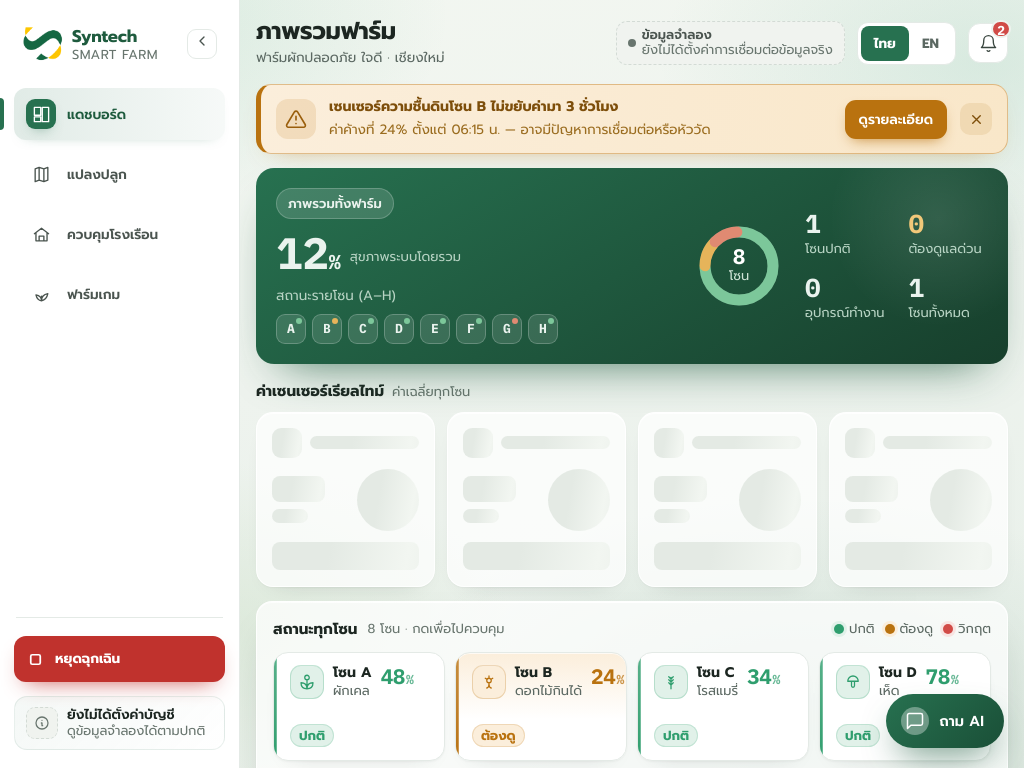
Scenario: DashboardPage › แจ้งเตือนที่ยังเป็นข้อมูลจำลอง ต้องติดป้ายบอกให้เห็นในแผง
Click the button named "การแจ้งเตือน (2)" at (988, 43), box [968,23,1008,63]
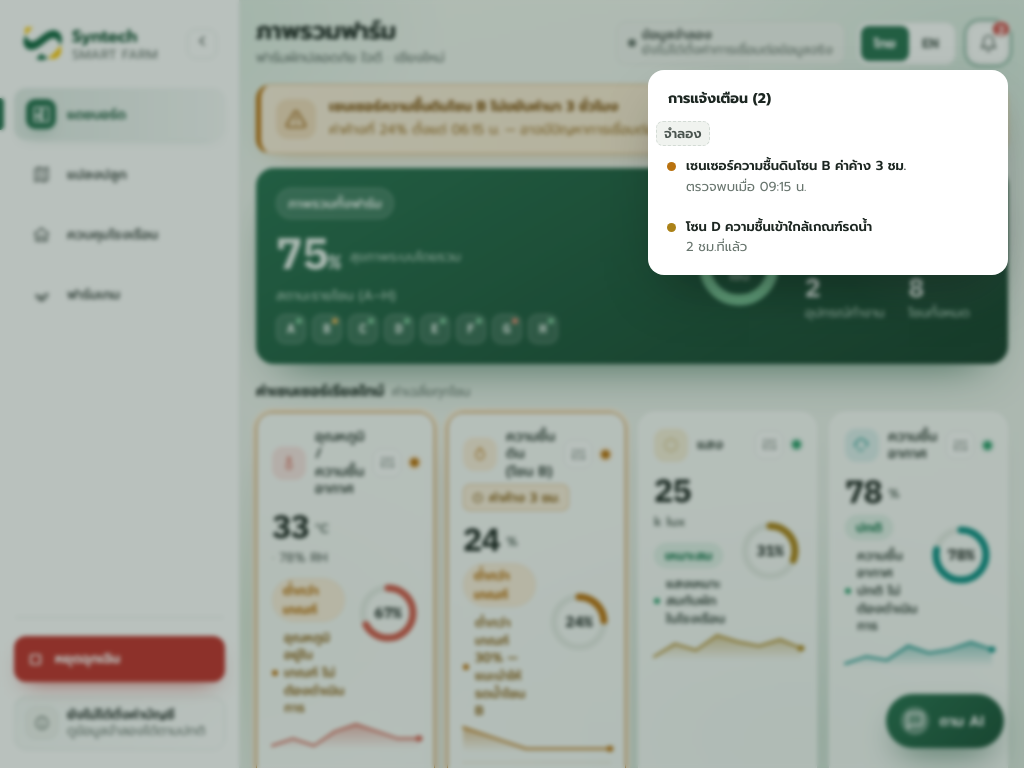
Result: the text "จำลอง" is shown at [656,121,710,146]
